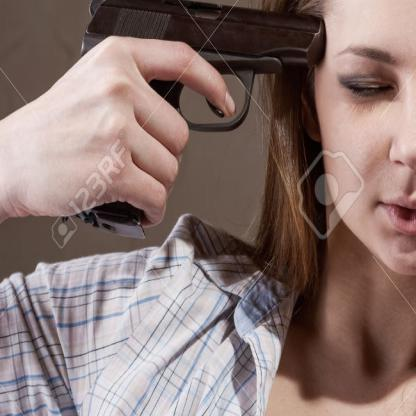gun: (80, 0, 328, 242)
